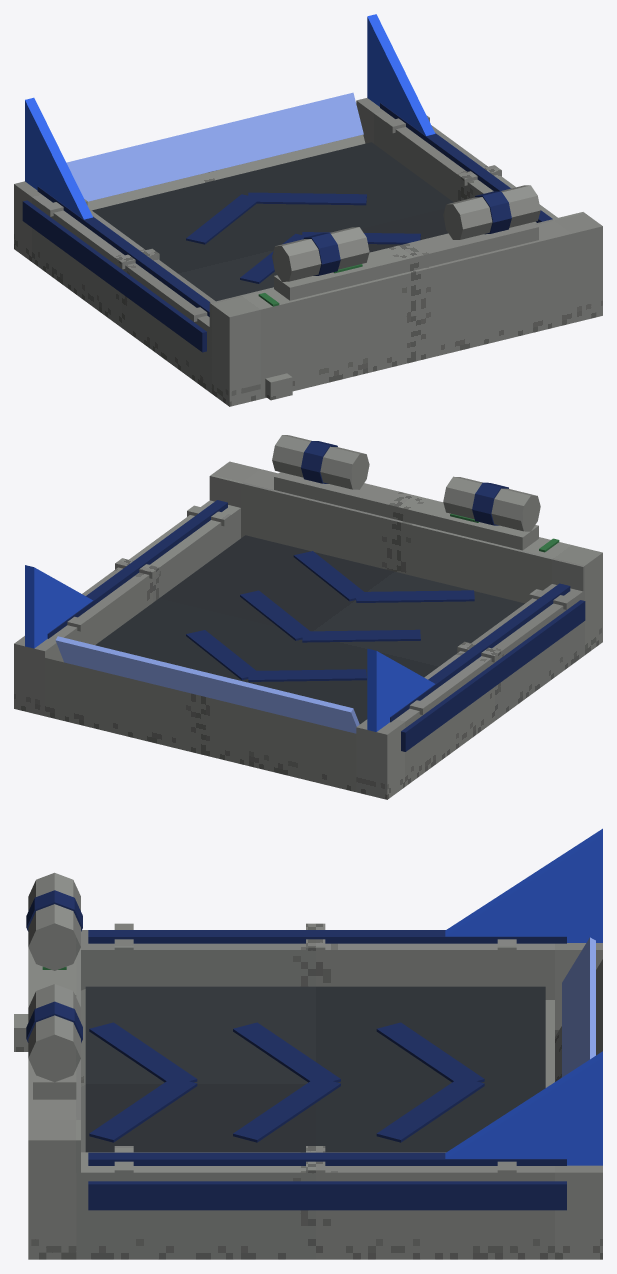
The model's file is ir_object_launcher.glb.
3 renders of one model, top to bottom at view 1: azimuth 30°, elevation 25°; view 2: azimuth 150°, elevation 25°; view 3: azimuth 270°, elevation 25°, orthographic. The views are drawn at different scales.
Visible parts, largest first — view 1: ir_object_launcher, deck, move_rail_l_side, move_chevron_3, move_rail_l, move_rail_r, move_chevron_2, move_rail_drum_r, move_rail_drum_l; view 2: ir_object_launcher, deck, move_rail_l_side, move_chevron_3, move_chevron_1, move_chevron_2, move_rail_l, move_rail_r, move_rail_drum_l, move_rail_drum_r; view 3: ir_object_launcher, deck, move_rail_r_side, move_rail_l, move_rail_r, move_chevron_1, move_chevron_3, move_chevron_2, move_rail_drum_r, move_rail_drum_l.
Part boxes in pixels (x1,y1,x2,y2): ir_object_launcher: [14, 14, 602, 406]; deck: [92, 142, 453, 301]; move_rail_l_side: [22, 200, 206, 352]; move_chevron_3: [186, 192, 366, 244]; move_rail_l: [37, 186, 210, 316]; move_rail_r: [380, 103, 552, 222]; move_chevron_2: [240, 232, 420, 283]; move_rail_drum_r: [475, 191, 511, 234]; move_rail_drum_l: [303, 233, 340, 275]; ir_object_launcher: [14, 435, 602, 799]; deck: [95, 535, 524, 724]; move_rail_l_side: [401, 600, 585, 751]; move_chevron_3: [186, 630, 366, 681]; move_chevron_1: [293, 551, 474, 602]; move_chevron_2: [240, 590, 420, 642]; move_rail_l: [390, 583, 570, 722]; move_rail_r: [47, 500, 227, 638]; move_rail_drum_l: [472, 482, 508, 525]; move_rail_drum_r: [301, 441, 337, 483]; ir_object_launcher: [14, 828, 602, 1259]; deck: [85, 986, 545, 1152]; move_rail_r_side: [88, 1181, 566, 1210]; move_rail_l: [88, 930, 566, 943]; move_rail_r: [88, 1152, 566, 1165]; move_chevron_1: [89, 1022, 197, 1142]; move_chevron_3: [376, 1022, 484, 1142]; move_chevron_2: [233, 1022, 340, 1142]; move_rail_drum_r: [26, 1001, 82, 1042]; move_rail_drum_l: [26, 890, 82, 931].
Size of what is drawn, in the model's own units: 2.46 by 0.9 by 2.46.
6 materials, 6 textured.
